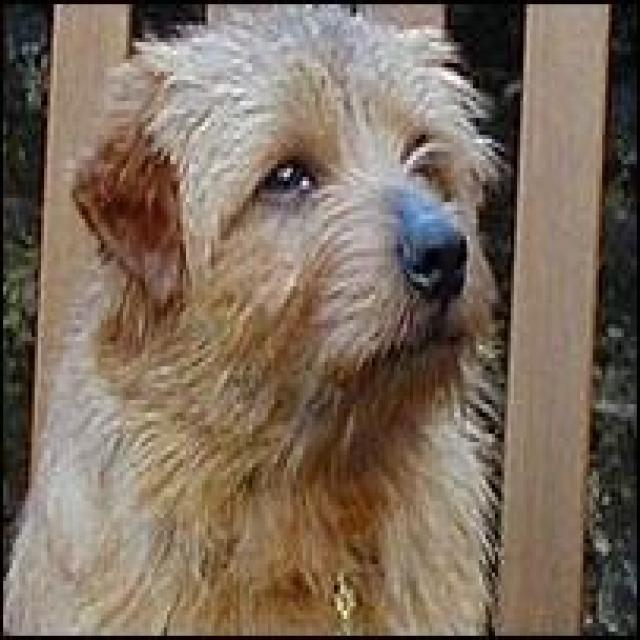dogs: (52, 22, 550, 628)
